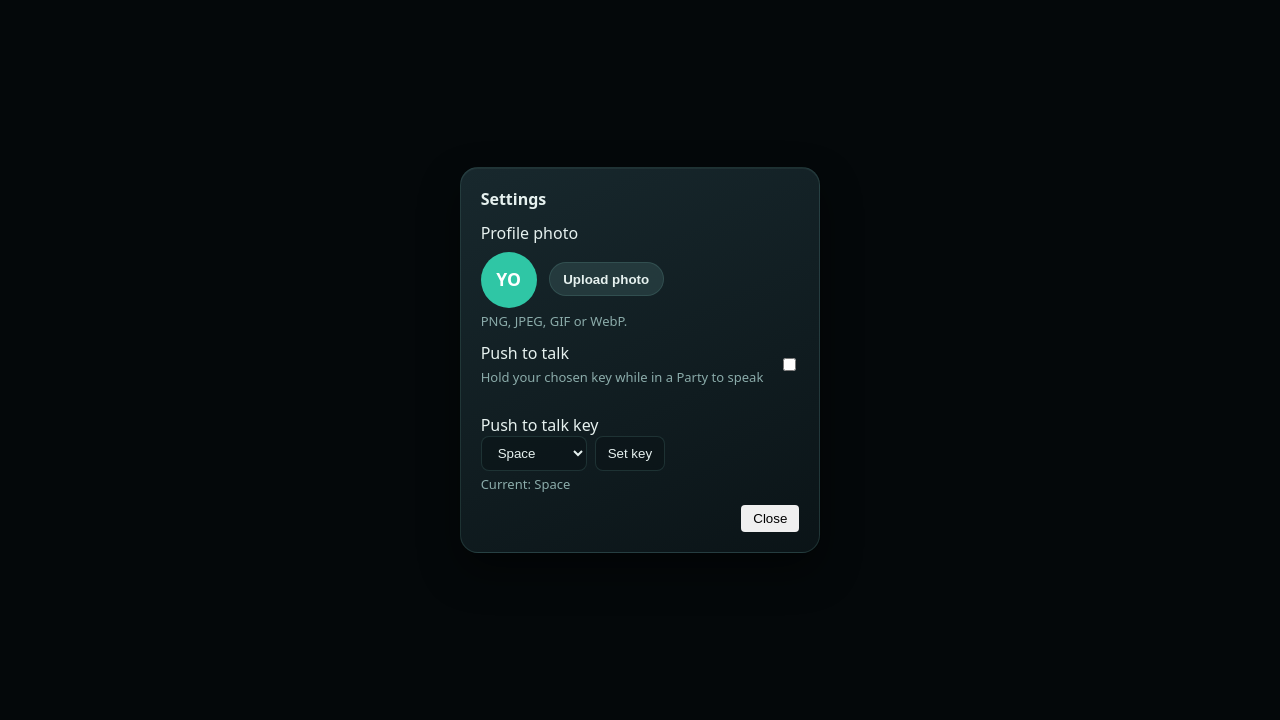
SettingsModal › cancels key capture when Escape is pressed
The width and height of the screenshot is (1280, 720).
Click the button "Set key".
click(630, 454)  # box [595,436,665,471]
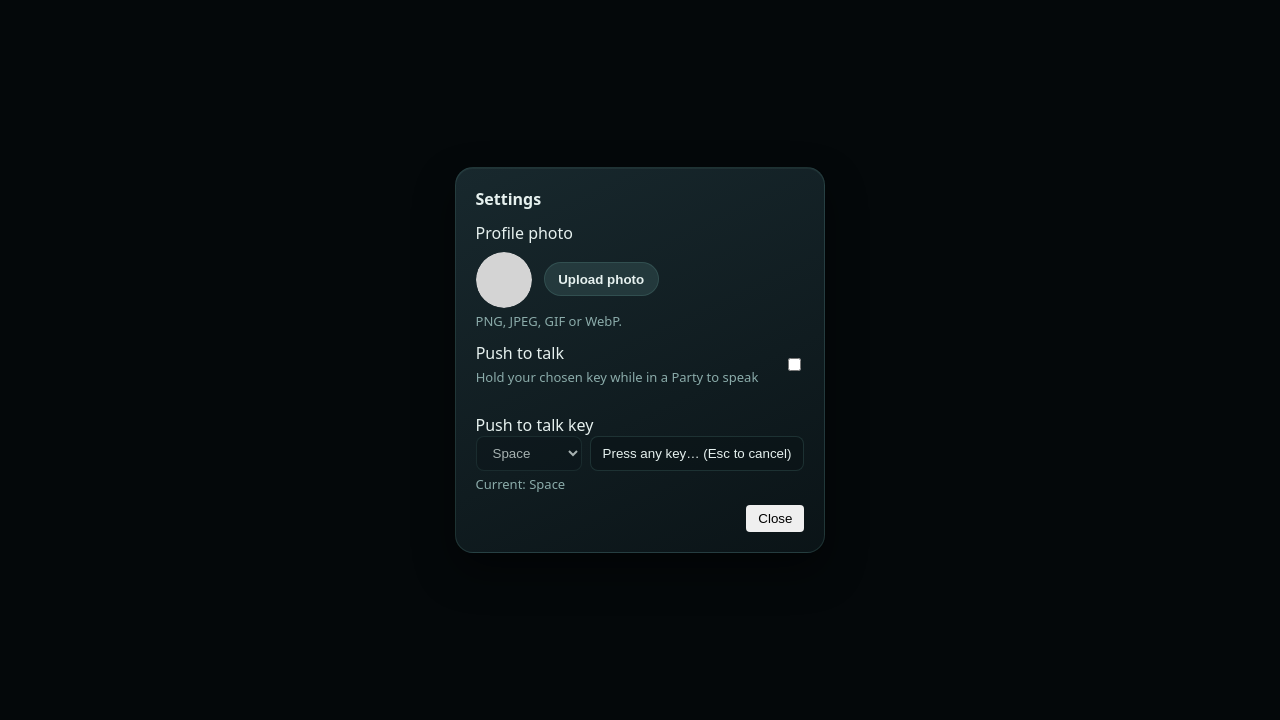
Press Escape
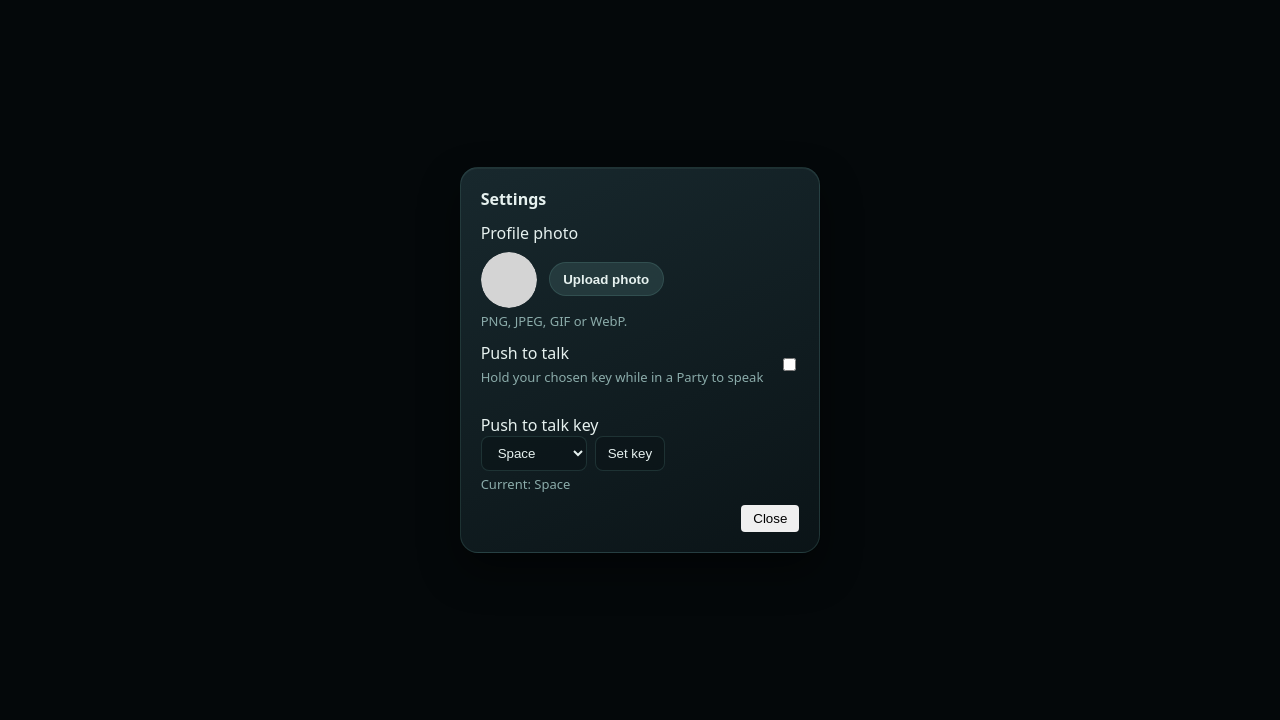
Expected: the button "Set key" is shown, [595,436,665,471]
